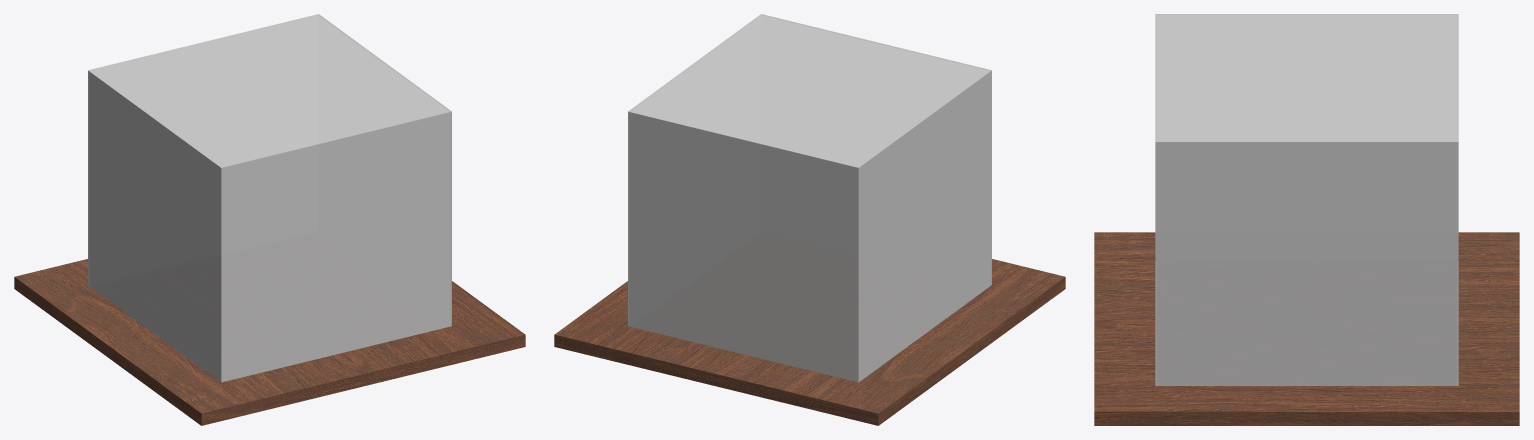
Rendered from wood case.fbx.
3 renders of one model, left to right at view 1: azimuth 30°, elevation 25°; view 2: azimuth 150°, elevation 25°; view 3: azimuth 270°, elevation 25°, orthographic. The views are drawn at different scales.
Visible parts, largest first — view 1: glass, wood; view 2: glass, wood; view 3: glass, wood.
Part boxes in pixels (x1,y1,x2,y2): glass: (88,14,451,382); wood: (14,259,525,425); glass: (628,14,991,382); wood: (554,259,1065,425); glass: (1155,14,1458,385); wood: (1094,232,1519,425).
Bounding box in the file's own units: 0.1403 × 0.094 × 0.1403.
